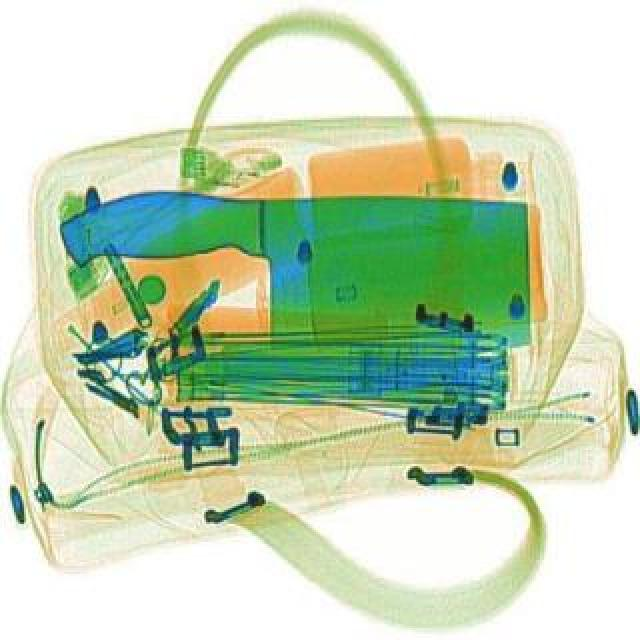knife: (52, 184, 536, 356)
